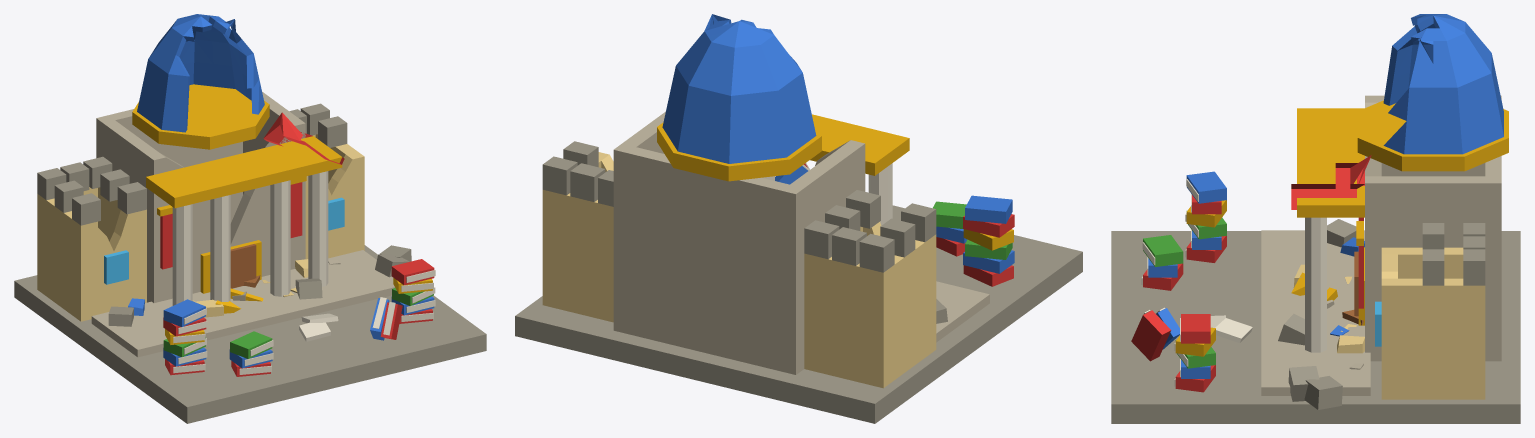
Rendered from library_t3_v1_dmg1.glb.
The picture shows the model from 3 angles, left to right: view 1: azimuth 30°, elevation 25°; view 2: azimuth 150°, elevation 25°; view 3: azimuth 270°, elevation 25°; orthographic projection. The views are drawn at different scales.
Parts seen in each view (by area): view 1: library_t3_v1_dmg1; view 2: library_t3_v1_dmg1; view 3: library_t3_v1_dmg1.
Boxes of the visible parts, box(x1,y1,x2,y2) form: library_t3_v1_dmg1: box(14, 14, 486, 423); library_t3_v1_dmg1: box(515, 14, 1082, 423); library_t3_v1_dmg1: box(1111, 14, 1520, 423).
Size of the model in its own units: 0.7818 by 0.65 by 0.75.
Materials: 1 (1 with a texture image).
